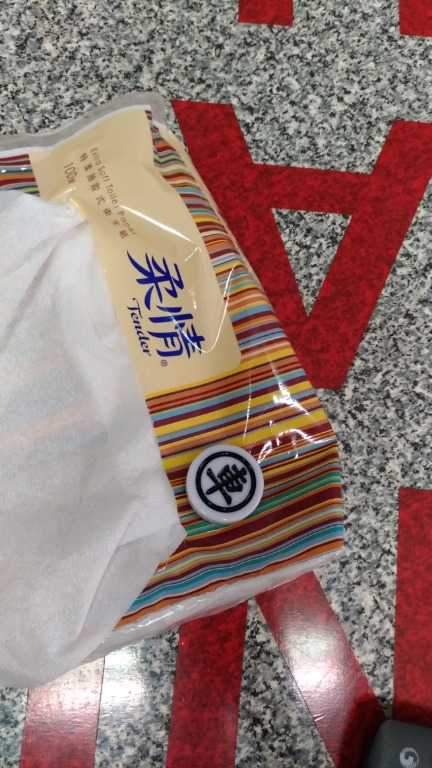b-king: (187, 442, 269, 530)
